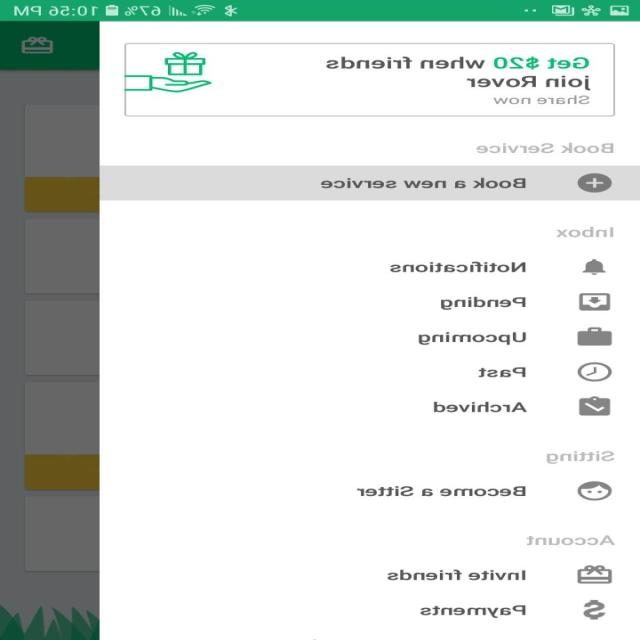Drawer: (100, 21, 640, 639)
Icon: (125, 52, 214, 93), (576, 564, 612, 584), (576, 326, 612, 346), (576, 362, 612, 381), (576, 173, 612, 192), (578, 292, 612, 310), (578, 396, 610, 415), (583, 599, 607, 619), (582, 258, 606, 276)
Image: (576, 480, 612, 500)
Text: (326, 56, 590, 69), (320, 177, 526, 189), (466, 75, 592, 91), (356, 486, 526, 496), (476, 142, 614, 154), (388, 569, 526, 581), (389, 261, 526, 273), (418, 331, 528, 345), (419, 605, 526, 618), (434, 400, 529, 413), (440, 296, 526, 310), (526, 534, 616, 546), (546, 450, 616, 464), (494, 94, 590, 104), (556, 227, 614, 237), (478, 367, 526, 378)
